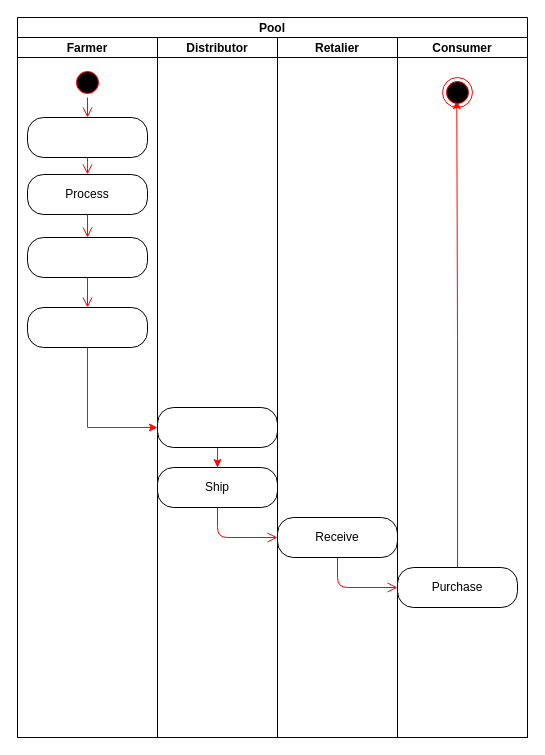
Image size: 545x755. Some labels were removed from this diagram. The shapes that lost their labels are listed below. From the top down, each one's centre as x and y in pixels, then its label:
At point (87, 137): "Harvest coffe".
At point (87, 257): "Pack".
At point (87, 327): "Sale".
At point (217, 427): "Buy".
